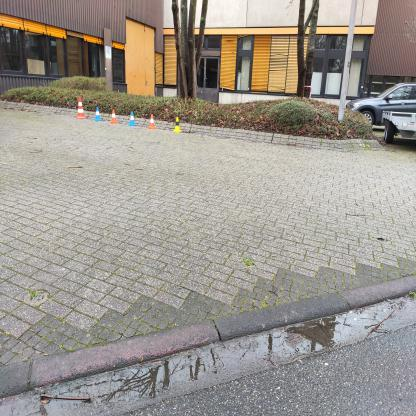Cones_big: (70, 92, 86, 120)
Cones_small_blue: (128, 107, 139, 130), (92, 105, 102, 123)
Cones_small_orange: (145, 108, 157, 134), (110, 108, 119, 126)
Cones_small_yellow: (171, 115, 180, 140)
